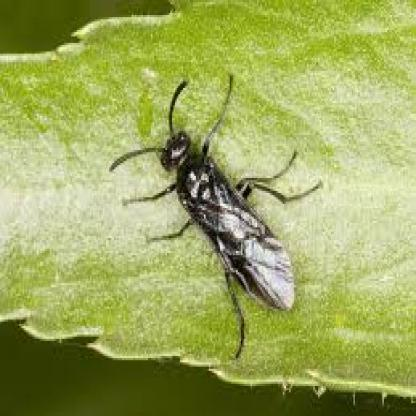sawfly: (111, 68, 321, 358)
